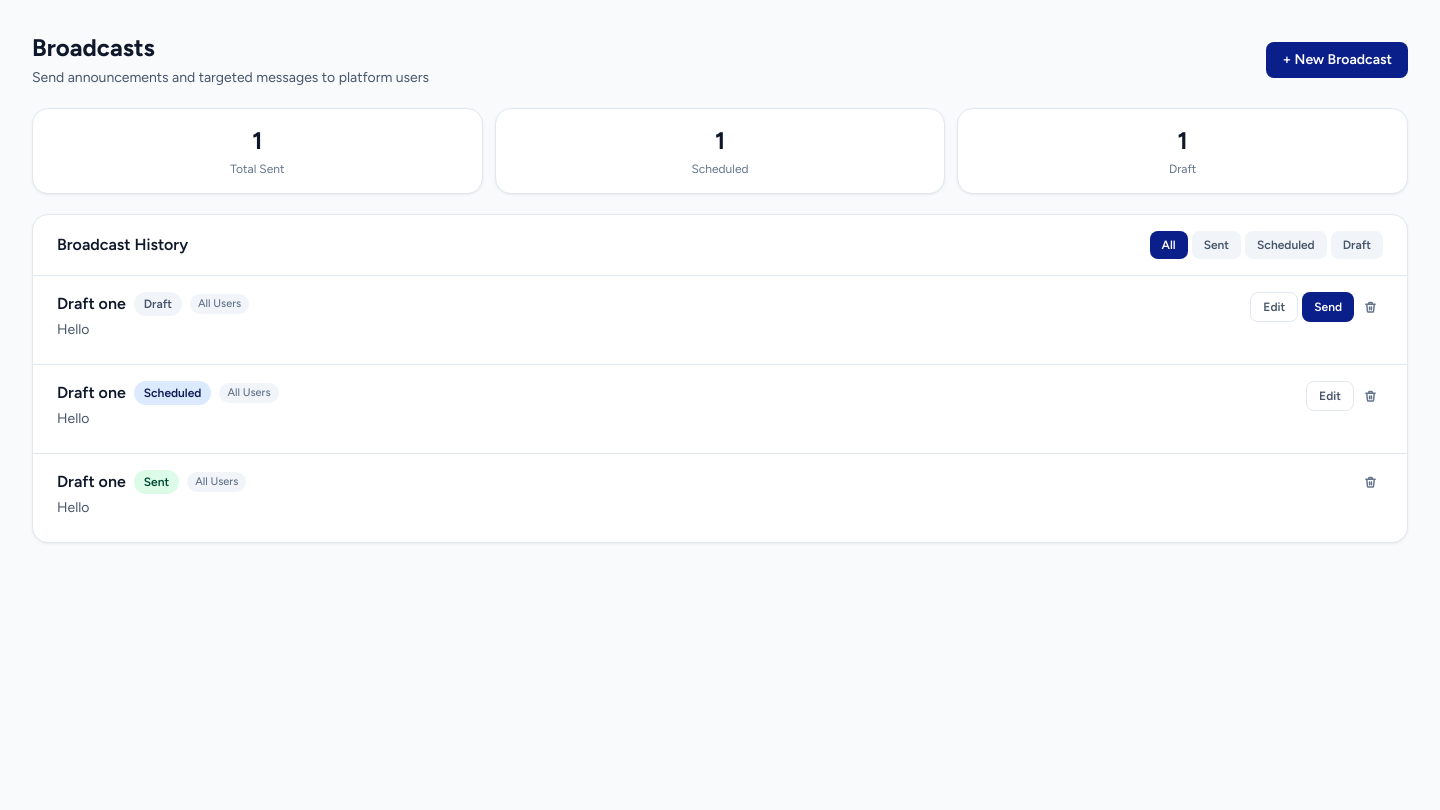
BroadcastsPage audit fixes › F3: draft/scheduled rows have an Edit button opening an edit dialog
Click the 1st button "Edit" at [1274, 307], box left=1250, top=292, right=1298, bottom=322
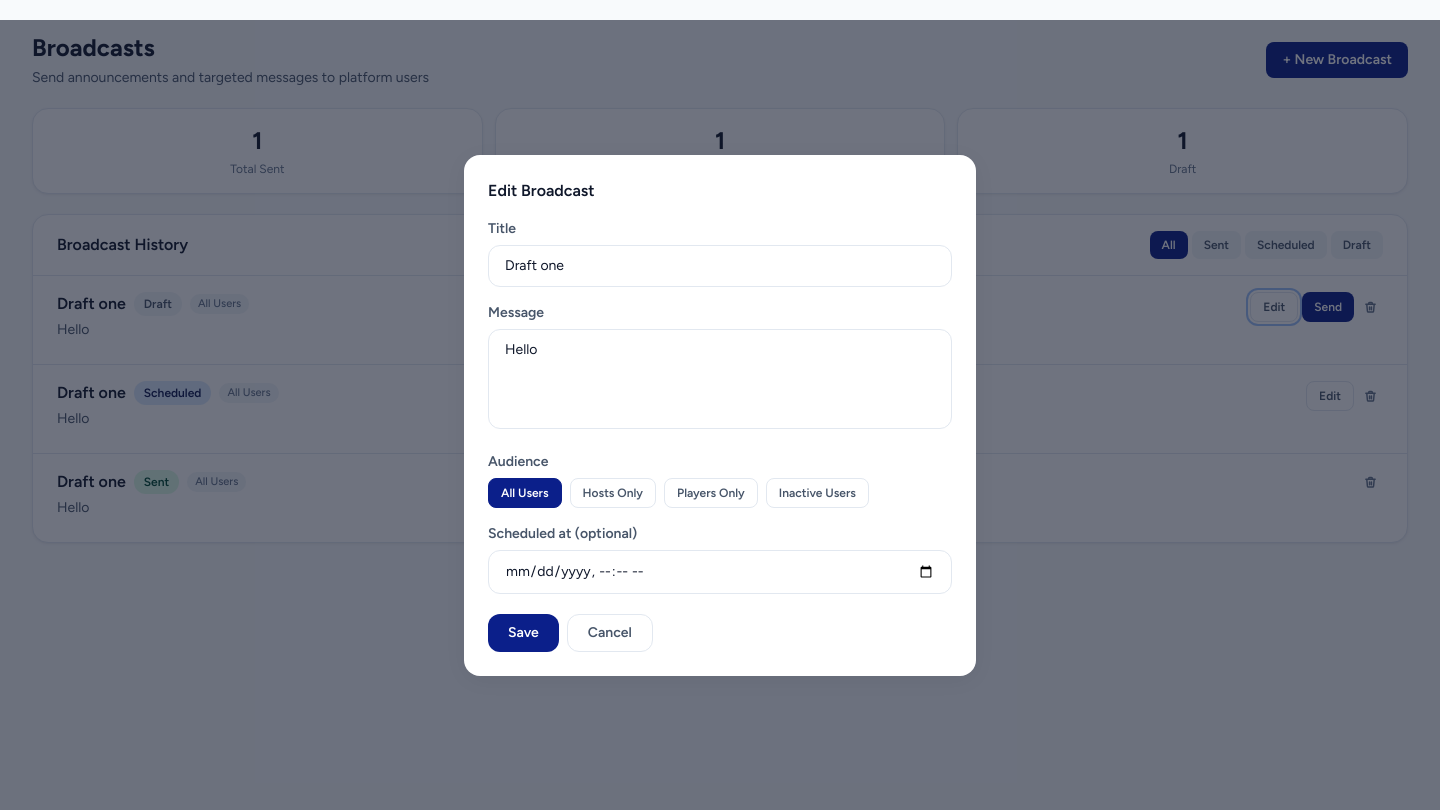
expect the heading "Edit Broadcast" is shown: met, box left=488, top=180, right=595, bottom=200
expect the button "Save" is shown: met, box left=488, top=614, right=559, bottom=652
